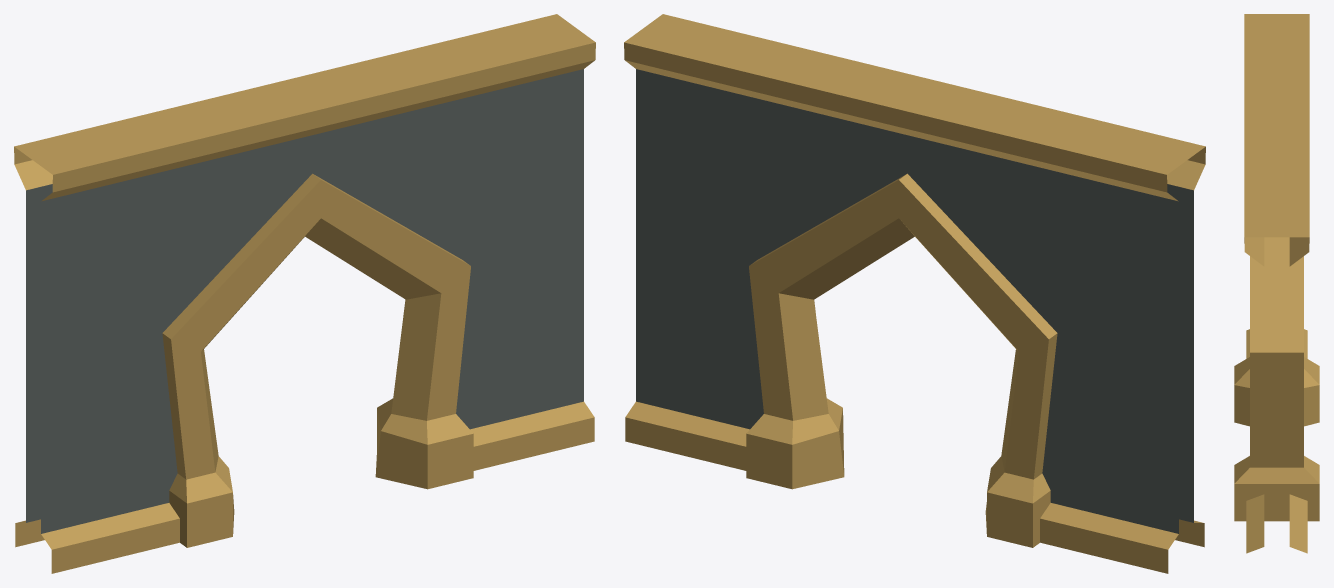
File: Props.fbx_Window.fbx_Doorway.fbx
3 views of the same model, side by side, from view 1: azimuth 30°, elevation 25°; view 2: azimuth 150°, elevation 25°; view 3: azimuth 270°, elevation 25° (orthographic). The views are drawn at different scales.
Visible parts, largest first — view 1: Doorway; view 2: Doorway; view 3: Doorway.
Part boxes in pixels (bbox=[...]): Doorway: bbox=[14, 14, 595, 573]; Doorway: bbox=[624, 14, 1205, 573]; Doorway: bbox=[1234, 14, 1319, 553].
Size of the model in its own units: 4 by 2.82 by 0.6478.
